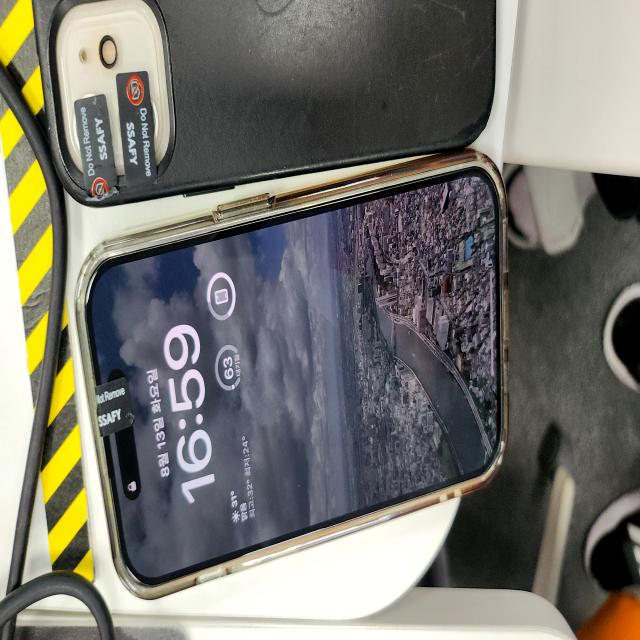phone: (76, 163, 511, 592)
sticker: (116, 70, 159, 190), (75, 94, 120, 202), (94, 382, 134, 436)
